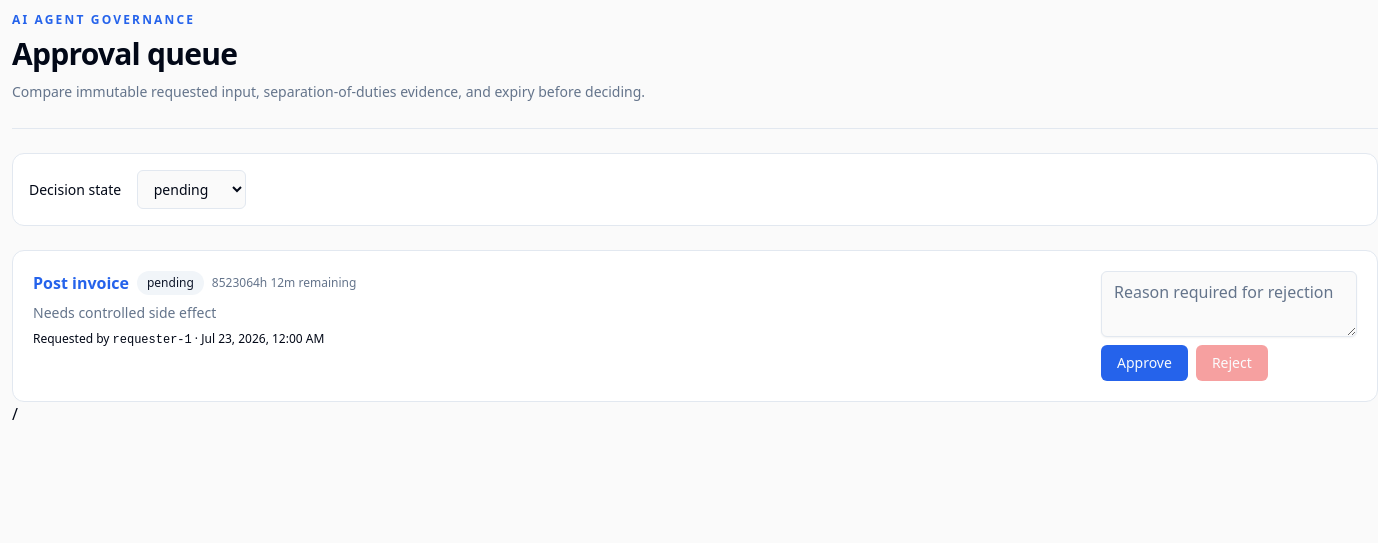
ApprovalQueuePage › filters by decision state and renders a status-specific empty state
expect the link "Post invoice" is shown: met, box [33,271,129,295]
Select "approved" in the dropdown labelled "Decision state" at coordinates (191, 190), box [137,170,246,209]
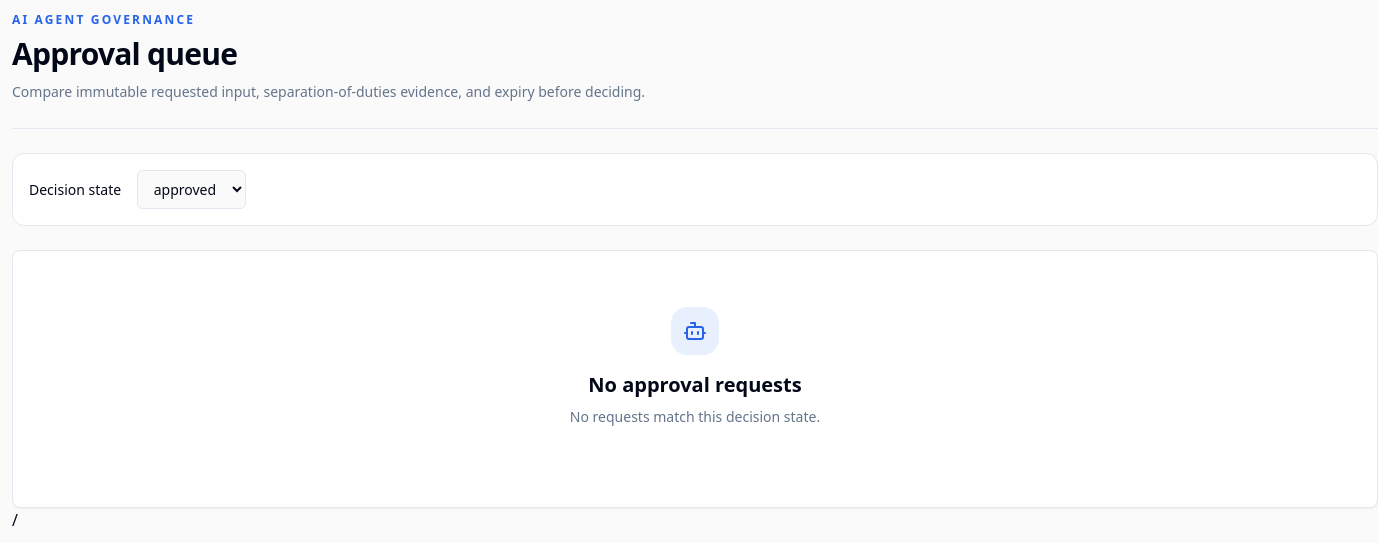
expect the text "No requests match this decision state." is shown: met, box [570,407,820,427]
